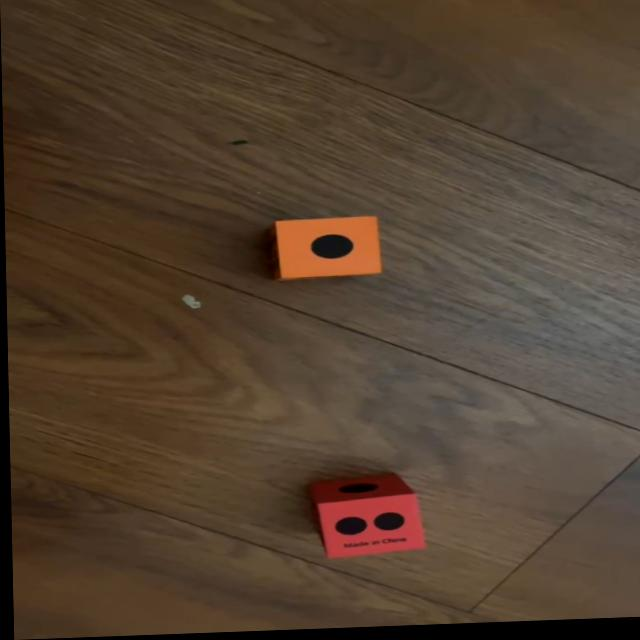cube: (306, 475, 422, 561)
